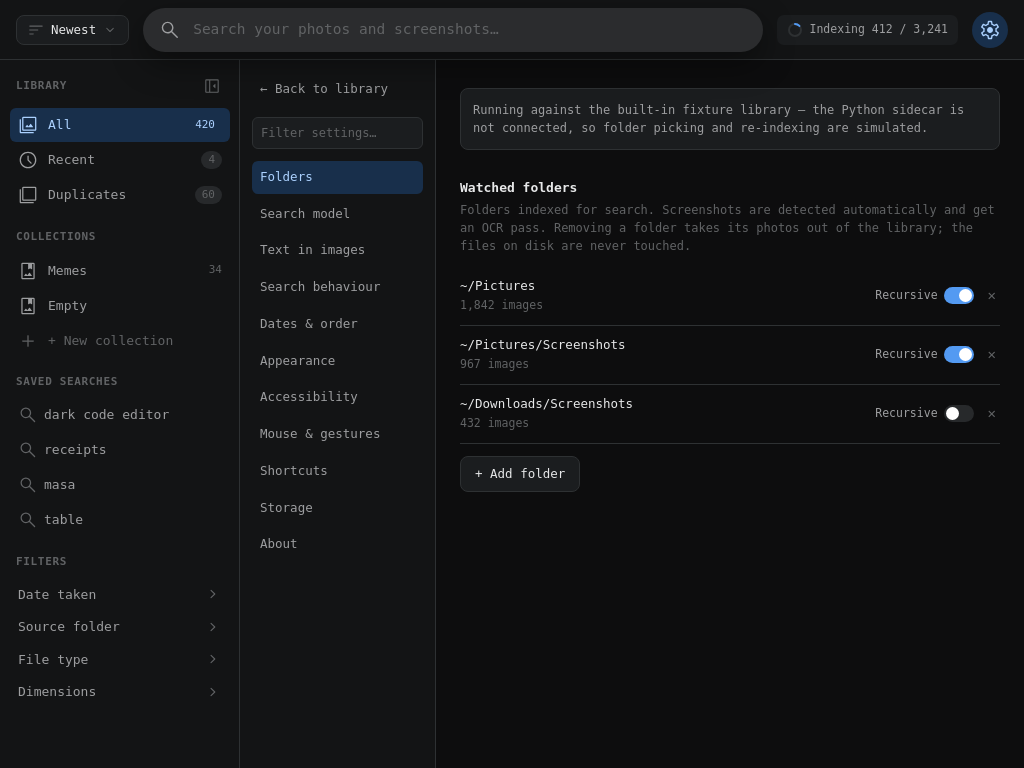
Test: App › renders the colour, gesture and search settings and applies what they change
Later steps or results of the test are not shown.
Type "accent" into the field with placeholder "Filter settings…".
click(338, 133); type("accent")  # box [252,117,423,149]
(page scrolled)
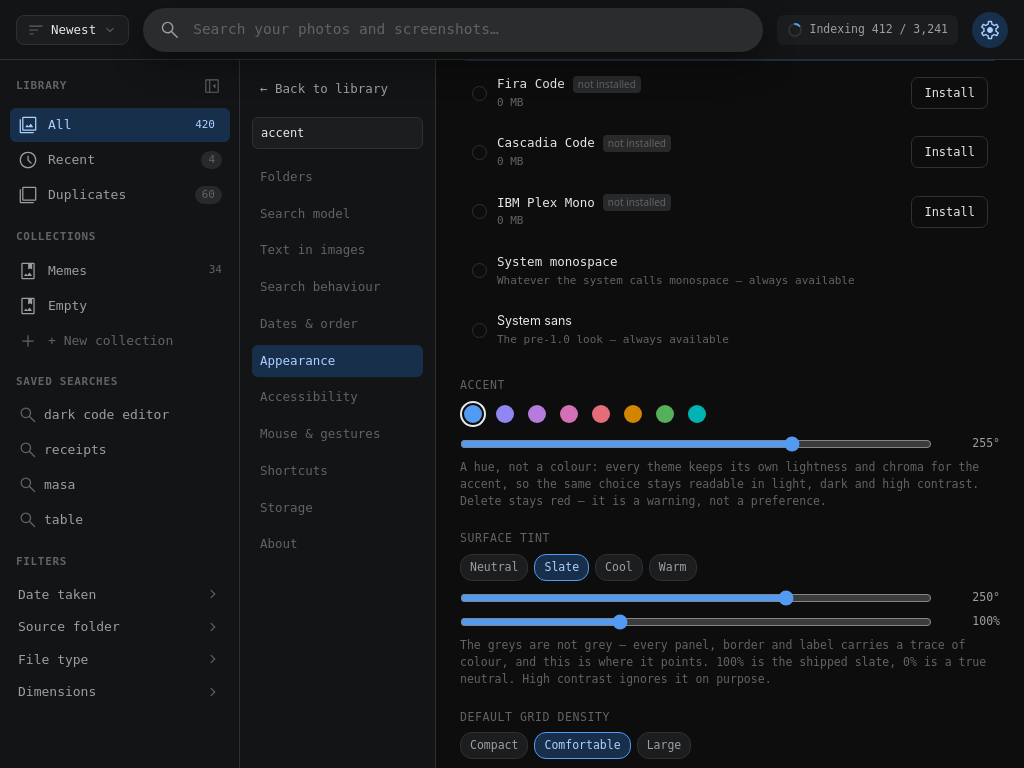
Now the button named "Teal" is shown
Click the button named "Teal".
click(697, 414)  # box [684,400,710,426]
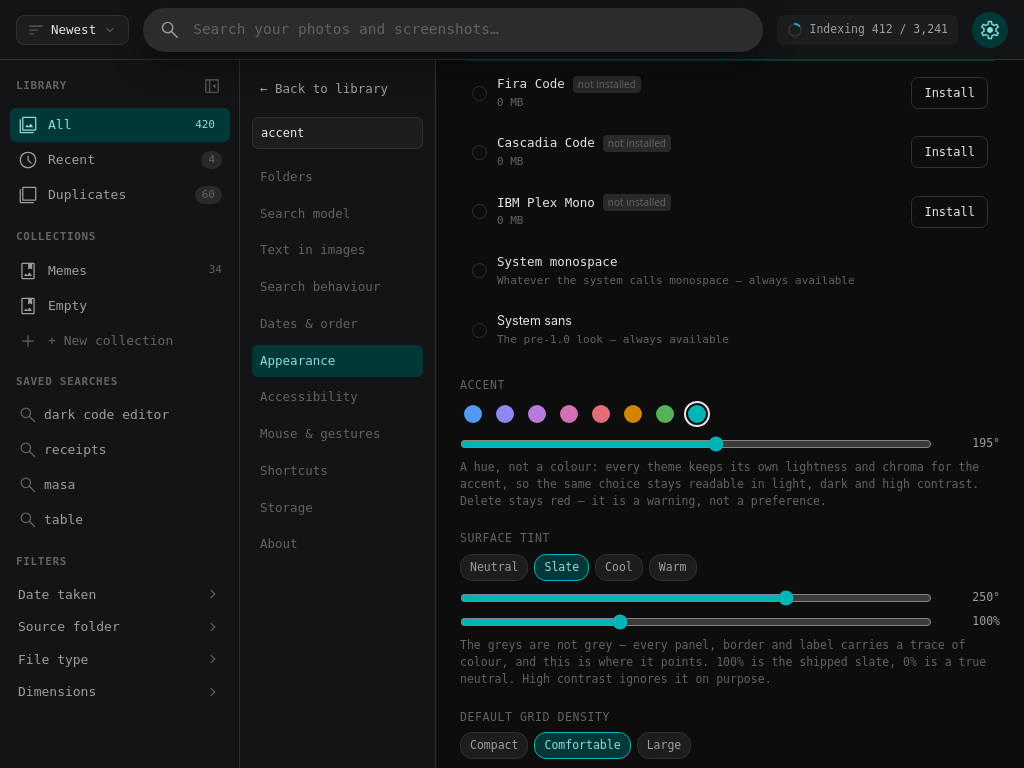
Now the slider named "Accent hue" holds "195", box [460,434,932,452]
